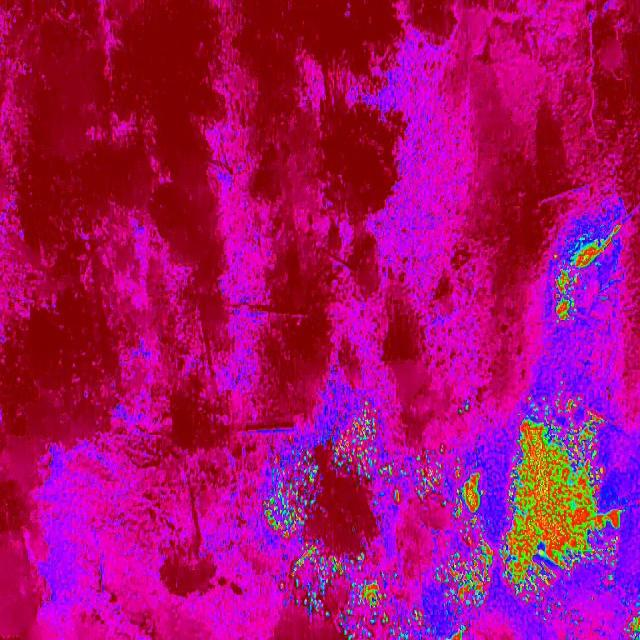fire: (493, 393, 628, 611), (544, 214, 628, 330), (371, 447, 489, 517), (288, 532, 370, 624), (433, 506, 496, 623), (335, 569, 427, 640), (262, 446, 328, 540), (326, 408, 389, 488), (617, 596, 640, 640)
